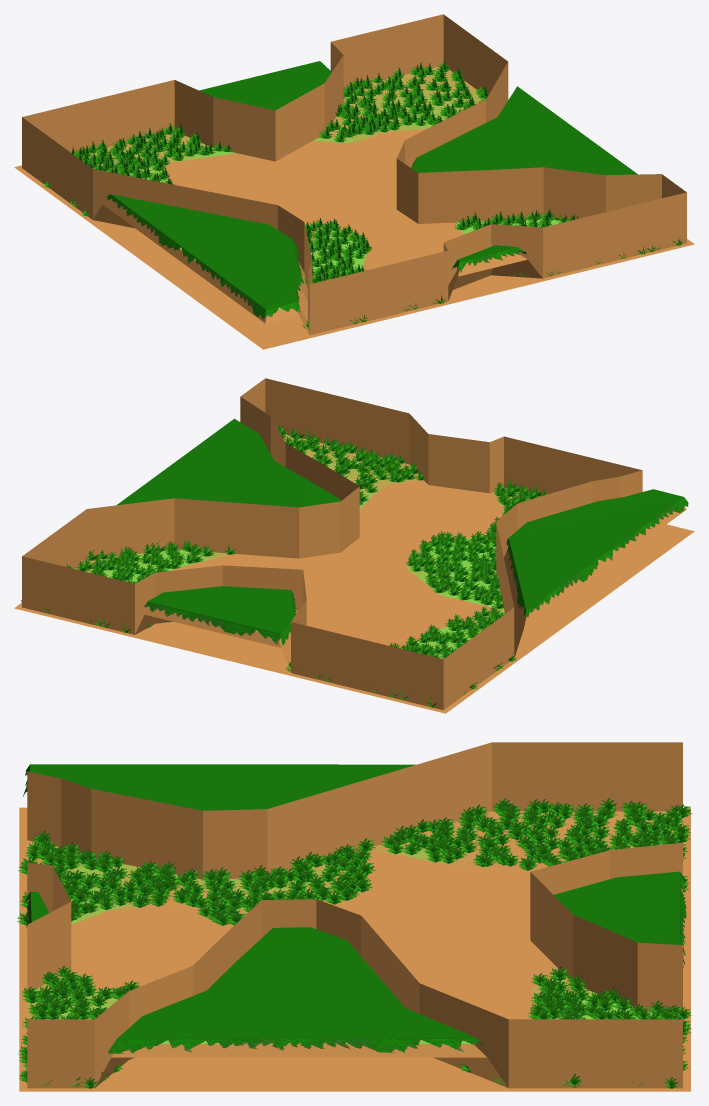
File: field1 958 kusamuras.dae
3 views of the same model, one above another, from view 1: azimuth 30°, elevation 25°; view 2: azimuth 150°, elevation 25°; view 3: azimuth 270°, elevation 25° (orthographic). The views are drawn at different scales.
Parts seen in each view (by area): view 1: colis, Plane, grasstop; view 2: colis, Plane, grasstop; view 3: colis, grasstop, Plane.
Part boxes in pixels (<box>): colis: <box>14,14,694,349</box>; Plane: <box>89,67,560,334</box>; grasstop: <box>106,61,637,319</box>; colis: <box>14,378,694,713</box>; Plane: <box>85,435,686,672</box>; grasstop: <box>117,418,688,645</box>; colis: <box>19,742,690,1091</box>; grasstop: <box>23,764,686,1053</box>; Plane: <box>27,811,682,1087</box>.
Size of the model in its own units: 8.29 by 8.31 by 0.9396.
4 materials, 2 textured.
